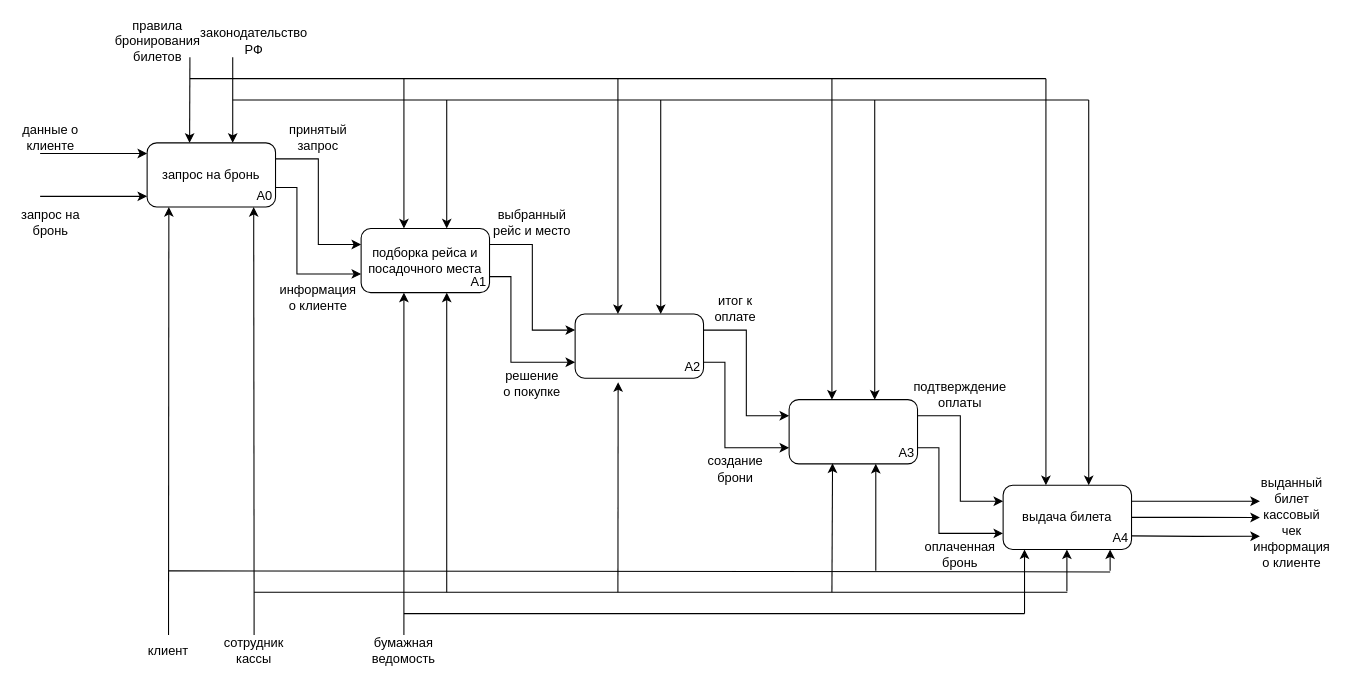
Image size: 1348x686. Some labels were removed from this diagram. The shapes that lost their labels are listed below. From the top down, each one's box as (x1, y1, x2, y2) in pixels, then its label:
(574, 313, 704, 378): расчет стоимости билета
(788, 399, 918, 464): оплата
